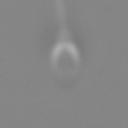normal: (48, 1, 85, 39)
